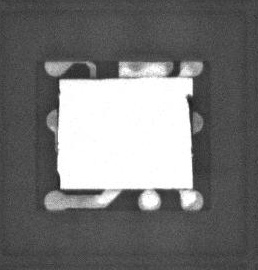DIE_BROKEN: (182, 92, 192, 149), (56, 170, 63, 189)
